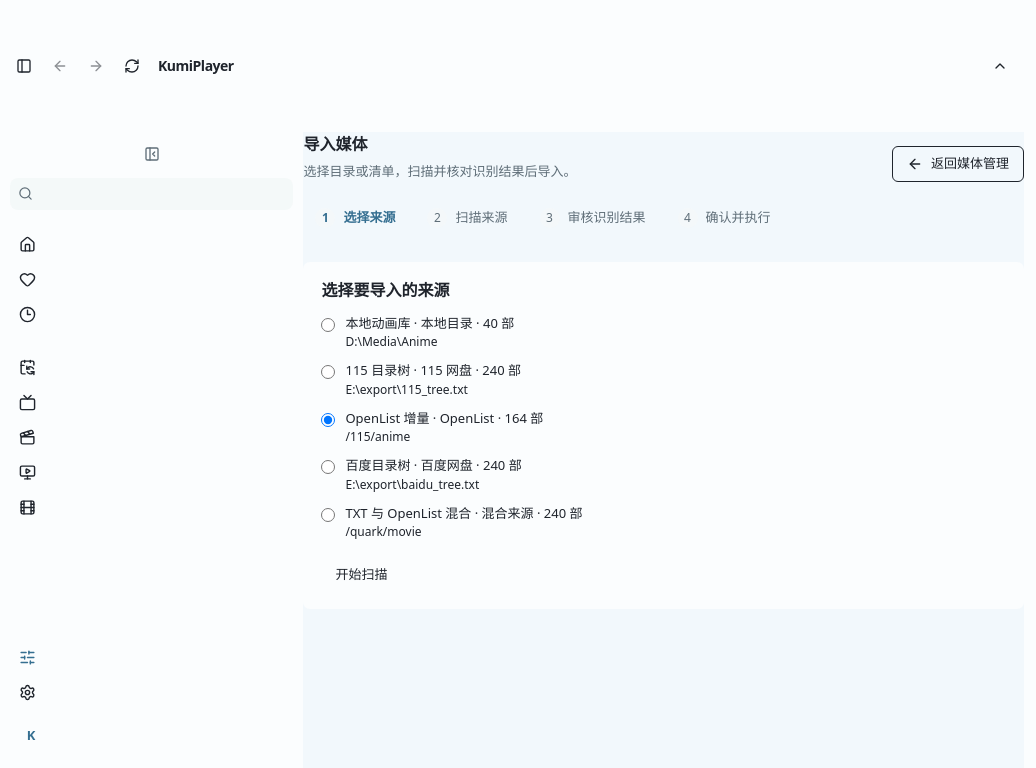
Test: 媒体管理与任务 › 导入流程在阻断问题处理完之前不允许确认
Expected: the heading "选择要导入的来源" is shown, x1=322 y1=279 x2=450 y2=301
What coordinates should you click on to do the following:
click the button "开始扫描"
I would click on:
 (362, 575)
Its box is x1=322 y1=557 x2=402 y2=593.
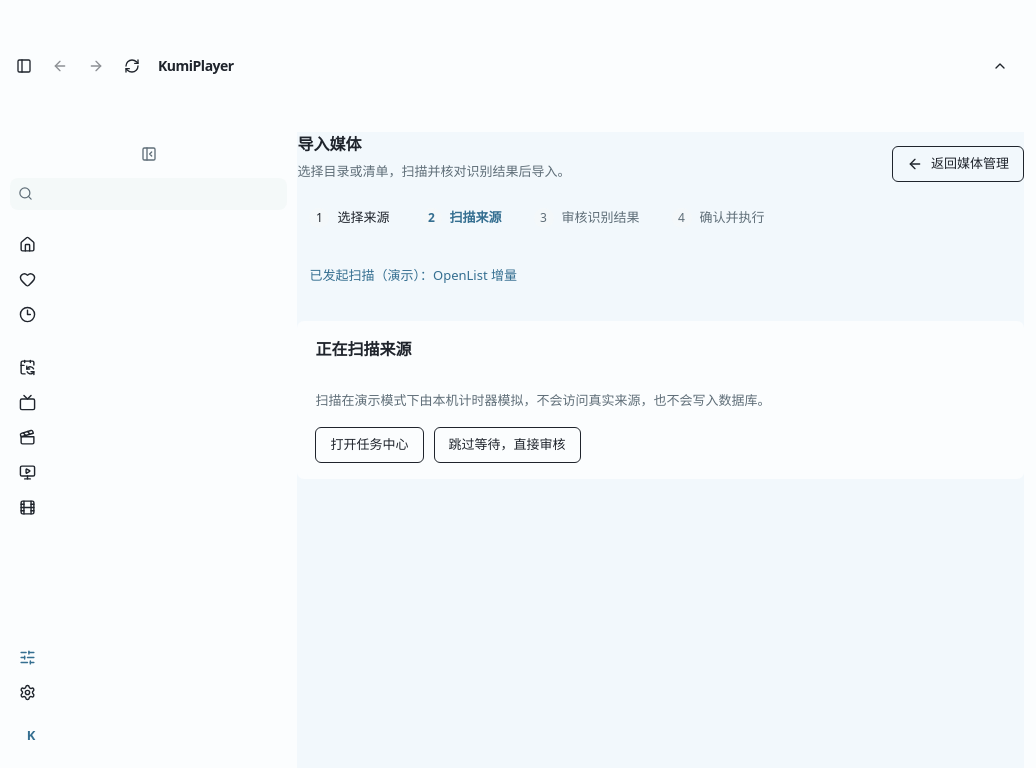
Expected: the heading "正在扫描来源" is shown, x1=316 y1=338 x2=412 y2=360
What coordinates should you click on to do the following:
click the button "跳过等待，直接审核"
I would click on:
 (507, 445)
Its box is x1=434 y1=427 x2=580 y2=463.
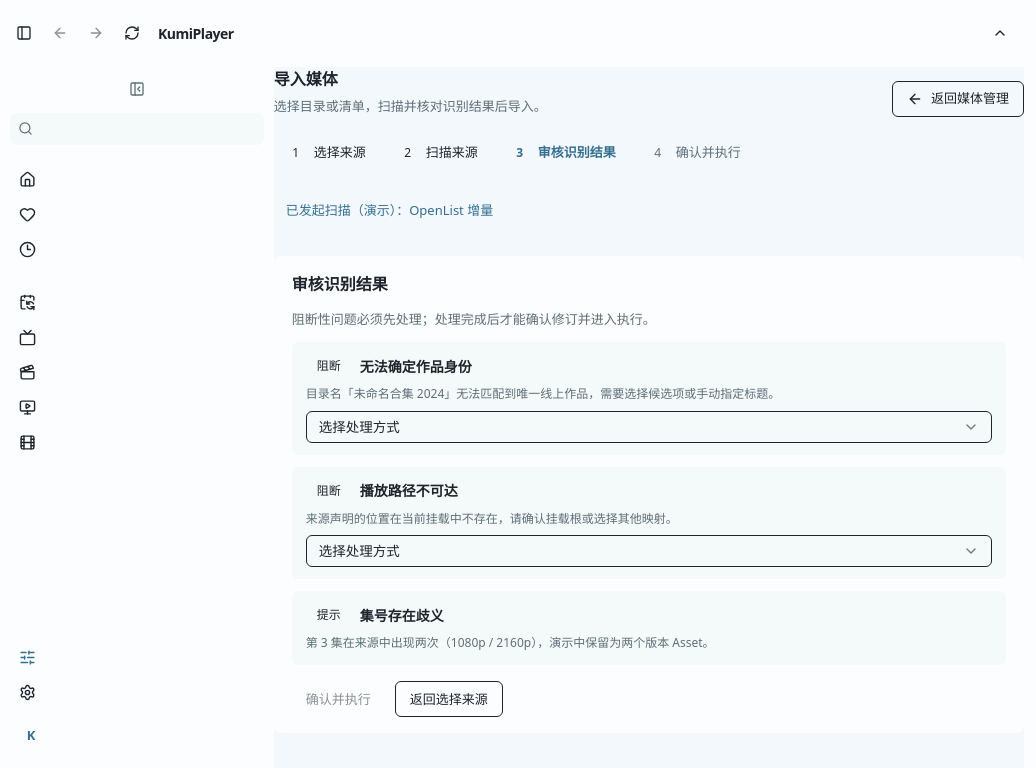
Expected: the text "审核识别结果" is shown, x1=538 y1=143 x2=616 y2=162
Expected: the button "确认并执行" is disabled, x1=292 y1=681 x2=385 y2=717
